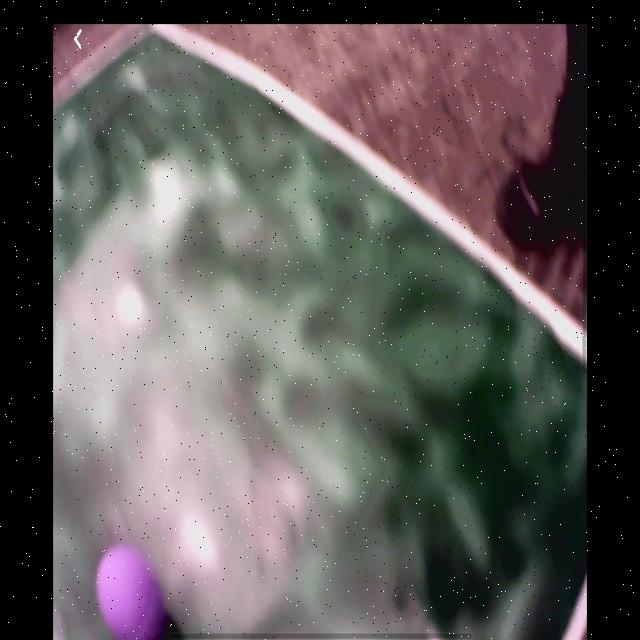ball: (96, 543, 168, 639)
